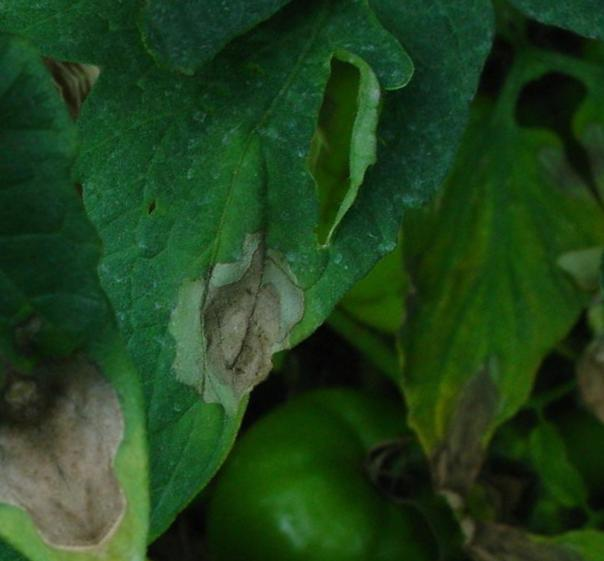Tomato leaf late blight: (0, 0, 604, 494)
